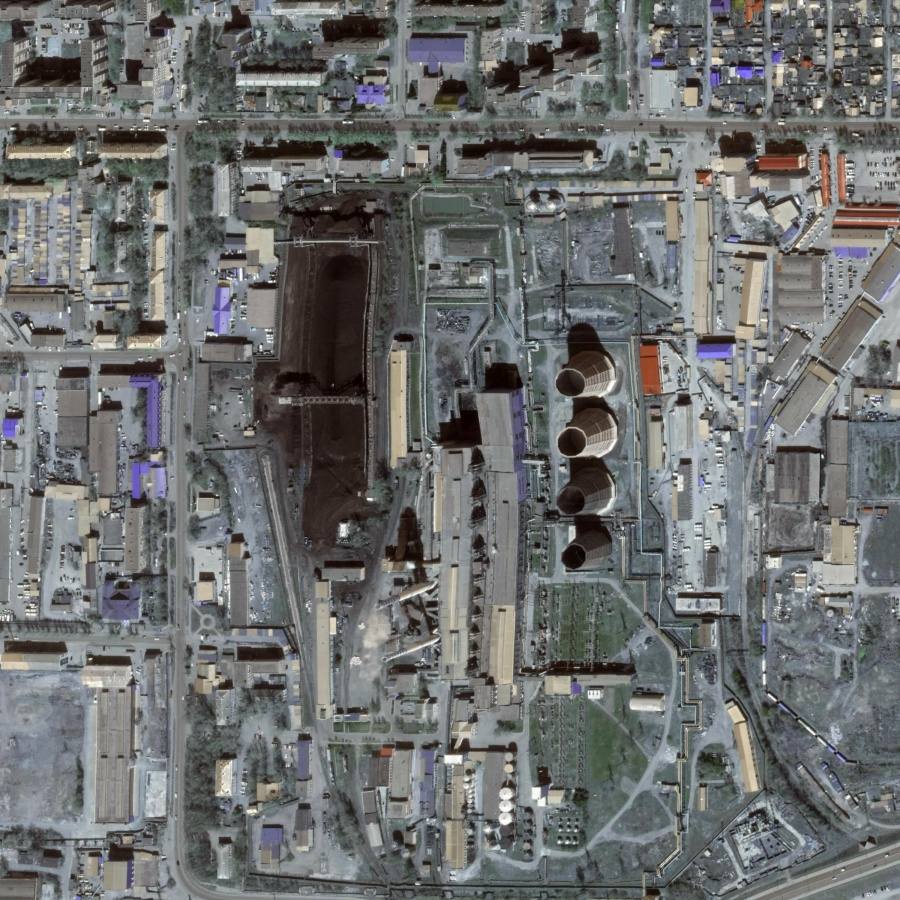PowerPlant: (240, 178, 650, 687)
